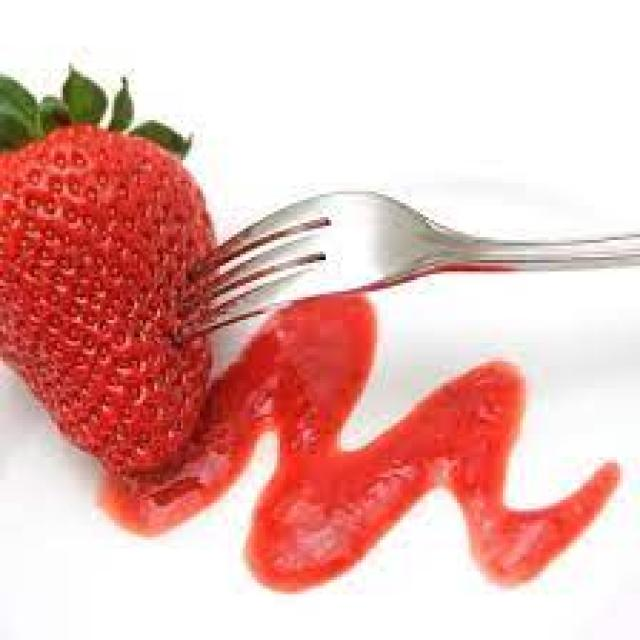strawberry: (5, 82, 225, 477)
